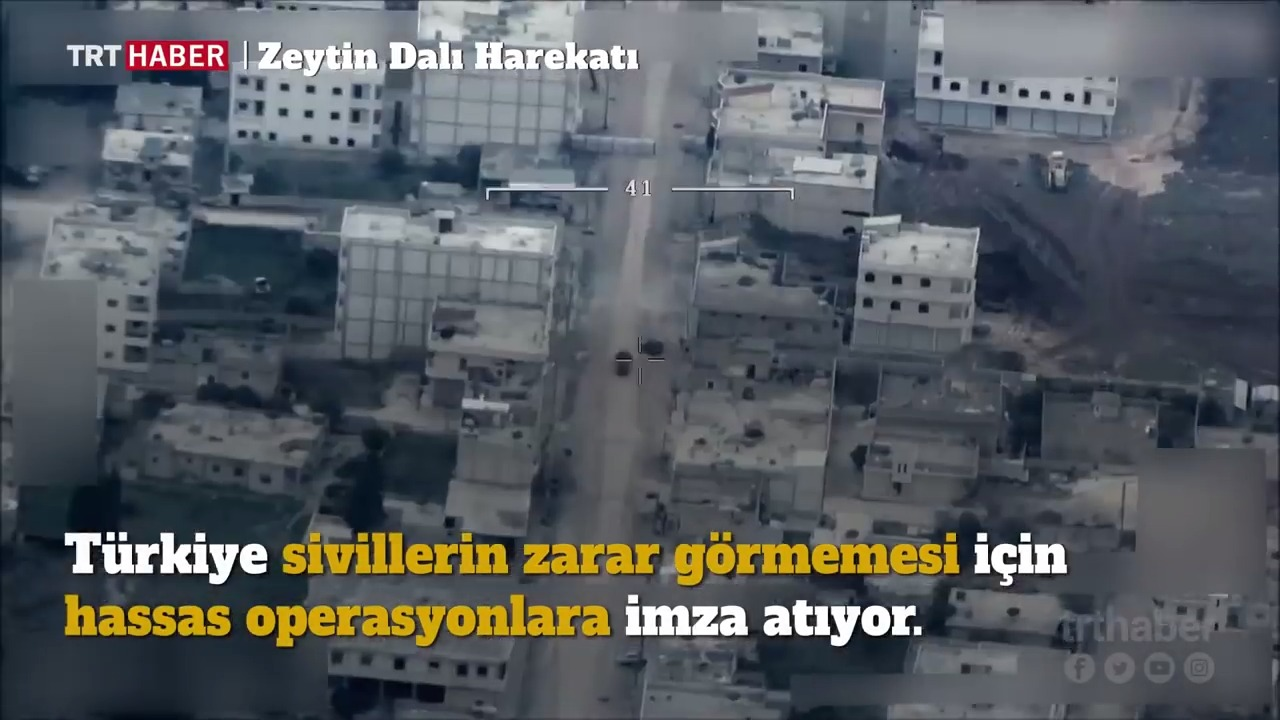arac: (1041, 145, 1075, 191), (611, 344, 634, 382), (252, 269, 272, 300), (618, 644, 642, 669), (642, 334, 665, 355)
bina: (322, 203, 568, 371), (705, 73, 913, 231), (128, 390, 334, 498), (847, 207, 984, 356), (84, 122, 194, 207)
